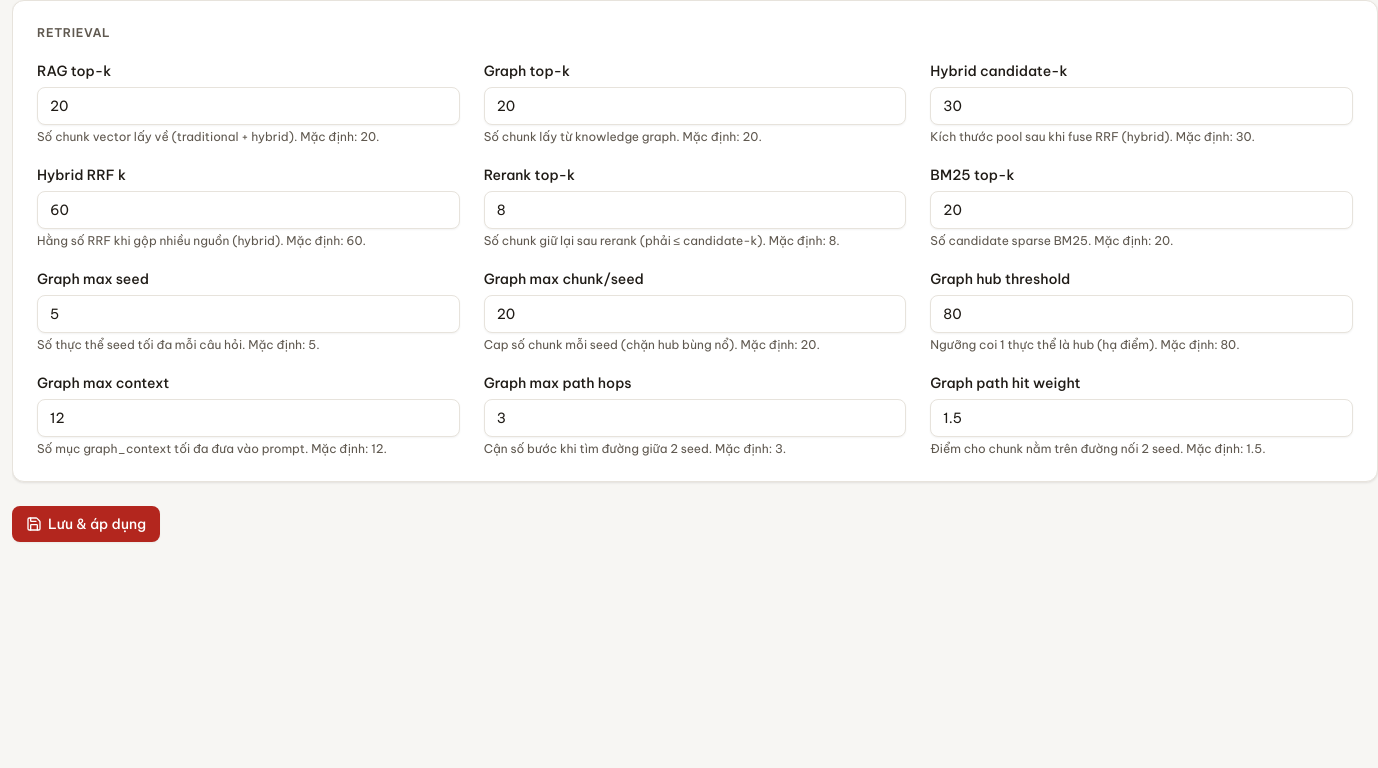
Test: ConfigForm › chặn rerank_top_k > hybrid_candidate_k (ràng buộc chéo)
This screenshot has width=1378, height=768.
Replace the text in the number field labelled "Hybrid candidate-k" with "5" at point(1142, 106), box [930,87,1353,125]
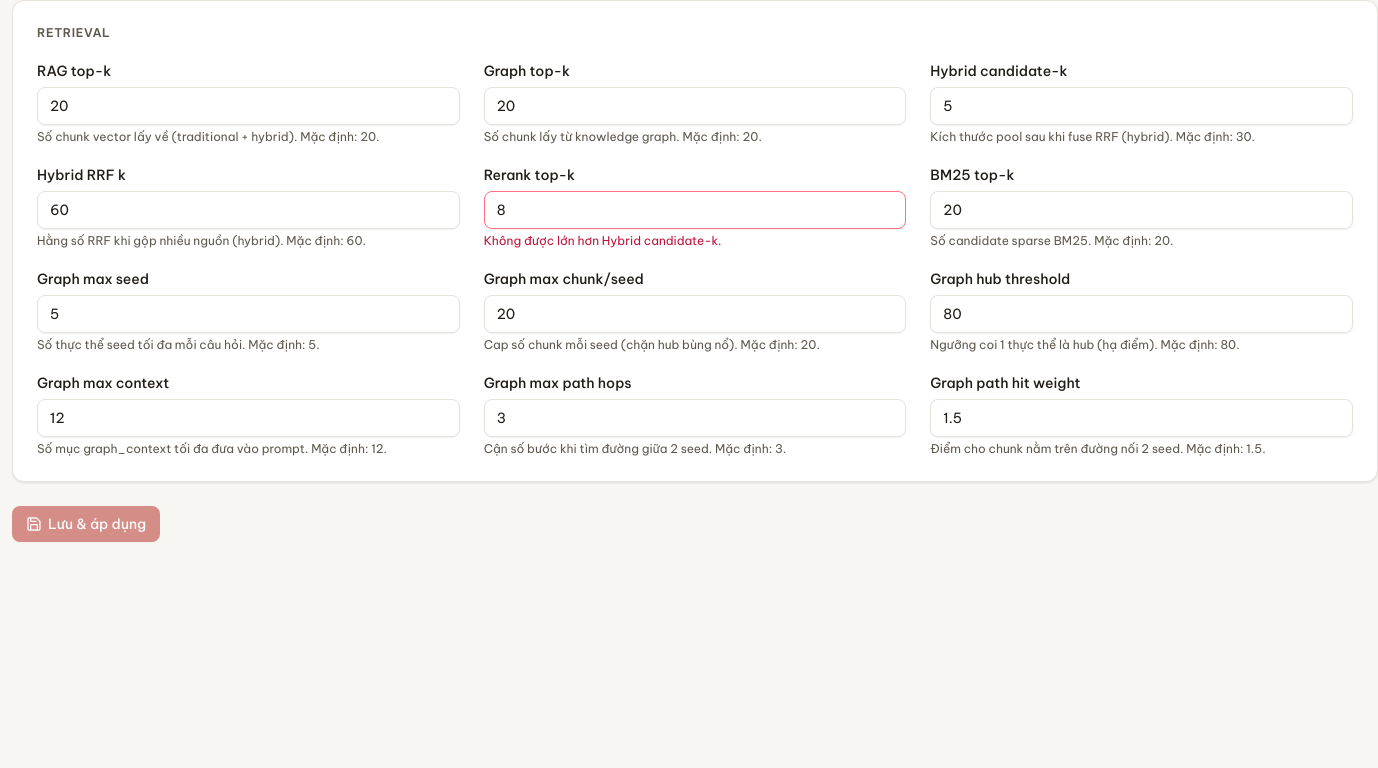
Result: the text "Không được lớn hơn Hybrid candidate-k." is shown at [484,233,722,248]
Result: the button "Lưu & áp dụng" is disabled at [12,506,160,542]
